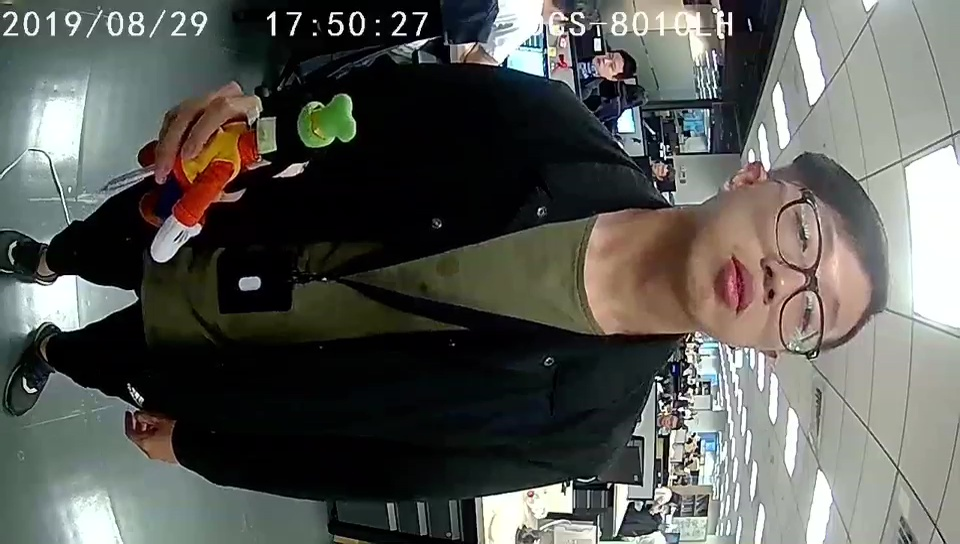goofy: (133, 94, 360, 267)
